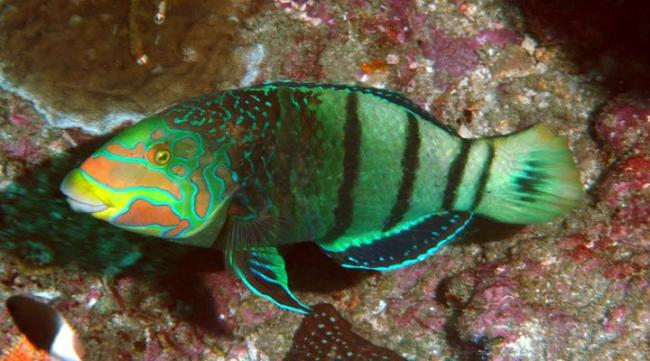fish: (60, 81, 584, 315)
